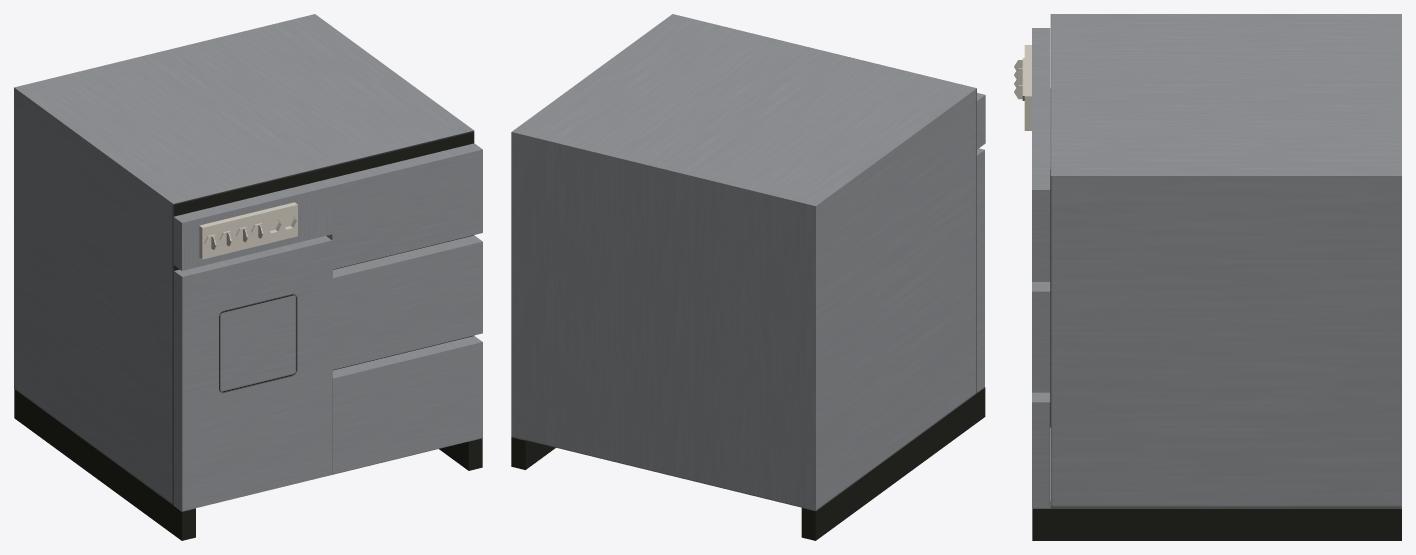
File: LC_3085_Chiffonier_LOD1.fbx
3 views of the same model, side by side, from view 1: azimuth 30°, elevation 25°; view 2: azimuth 150°, elevation 25°; view 3: azimuth 270°, elevation 25° (orthographic). The views are drawn at different scales.
Parts seen in each view (by area): view 1: LC_3085_Ch_LOD1; view 2: LC_3085_Ch_LOD1; view 3: LC_3085_Ch_LOD1.
Part boxes in pixels (<box>): LC_3085_Ch_LOD1: <box>14,14,482,540</box>; LC_3085_Ch_LOD1: <box>511,14,985,540</box>; LC_3085_Ch_LOD1: <box>1014,14,1401,540</box>.
Size of the model in its own units: 82.91 by 87.08 by 83.88.
Materials: 1 (1 with a texture image).
